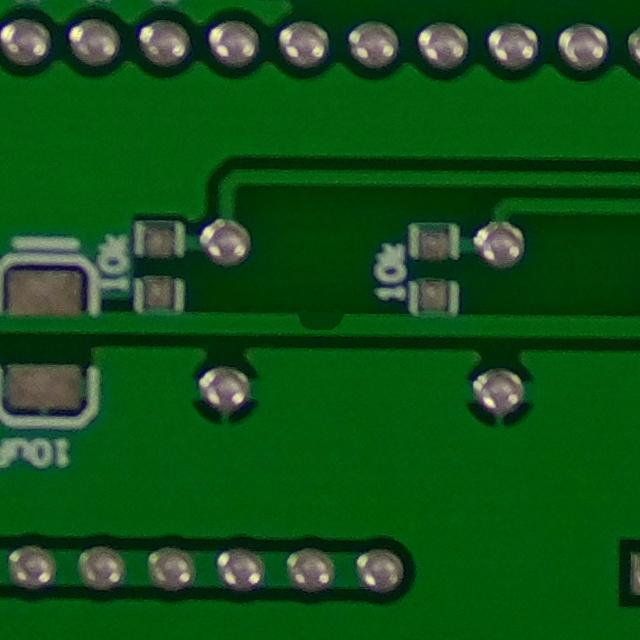mouse_bite: (282, 297, 358, 343)
